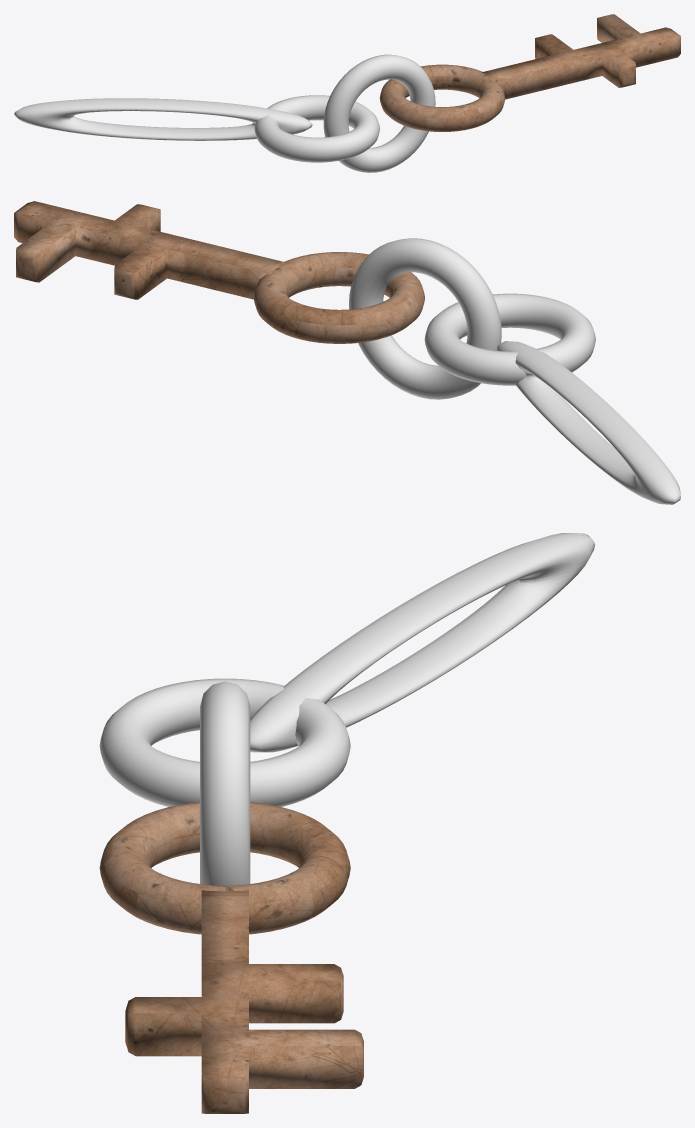
The model's file is anahtar.fbx.
3 views of the same model, one above another, from view 1: azimuth 30°, elevation 25°; view 2: azimuth 150°, elevation 25°; view 3: azimuth 270°, elevation 25° (orthographic). The views are drawn at different scales.
Parts seen in each view (by area): view 1: Torus.001, Torus.004, Torus.002, Torus.003; view 2: Torus.001, Torus.002, Torus.004, Torus.003; view 3: Torus.001, Torus.004, Torus.003, Torus.002.
Boxes of the visible parts, box(x1,y1,x2,y2) form: Torus.001: box(379, 14, 680, 131); Torus.004: box(14, 98, 312, 140); Torus.002: box(323, 54, 435, 172); Torus.003: box(254, 95, 379, 162); Torus.001: box(14, 201, 424, 343); Torus.002: box(349, 238, 501, 399); Torus.004: box(497, 341, 680, 504); Torus.003: box(424, 293, 595, 385); Torus.001: box(99, 802, 363, 1113); Torus.004: box(250, 533, 595, 752); Torus.003: box(99, 678, 350, 806); Torus.002: box(200, 681, 250, 885).
Size of the model in its own units: 1317 by 250 by 493.
Materials: 3 (1 with a texture image).
